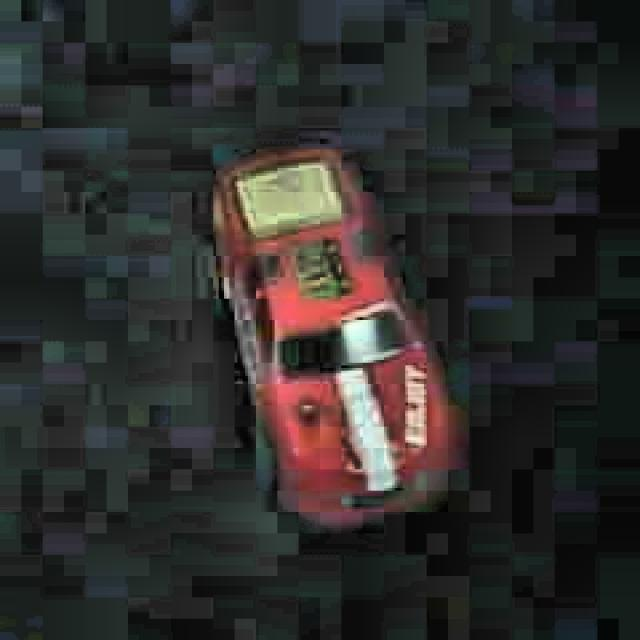car: (201, 138, 462, 530)
